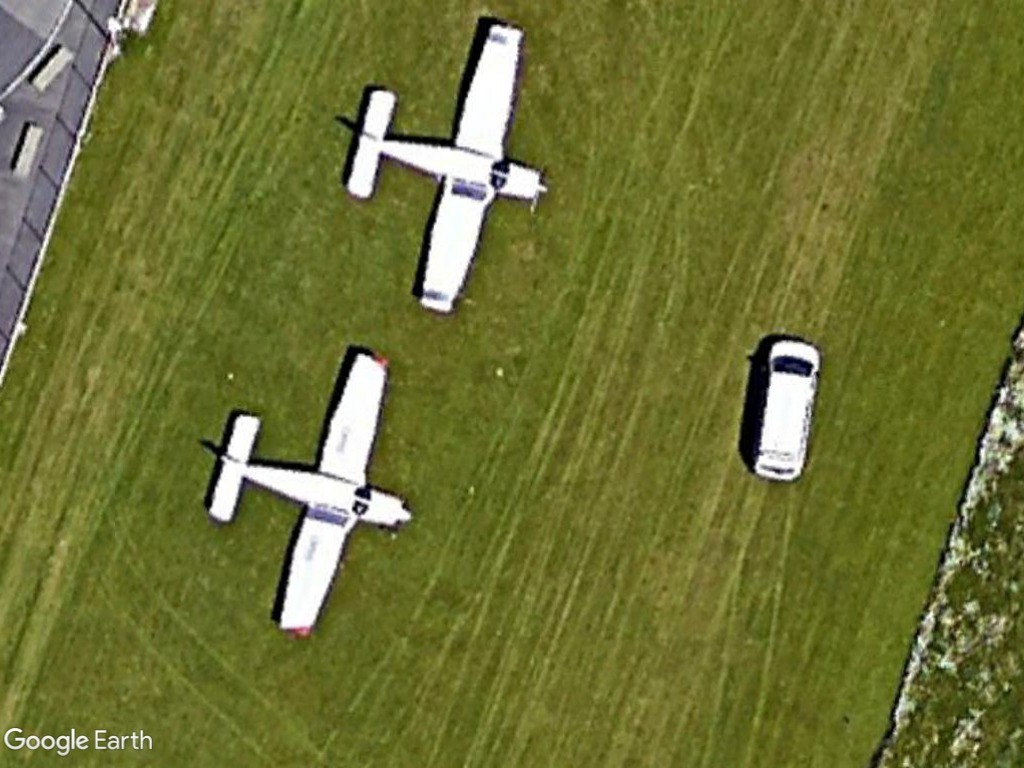trainer: (193, 344, 420, 649), (331, 15, 560, 316)
van: (747, 331, 826, 484)
